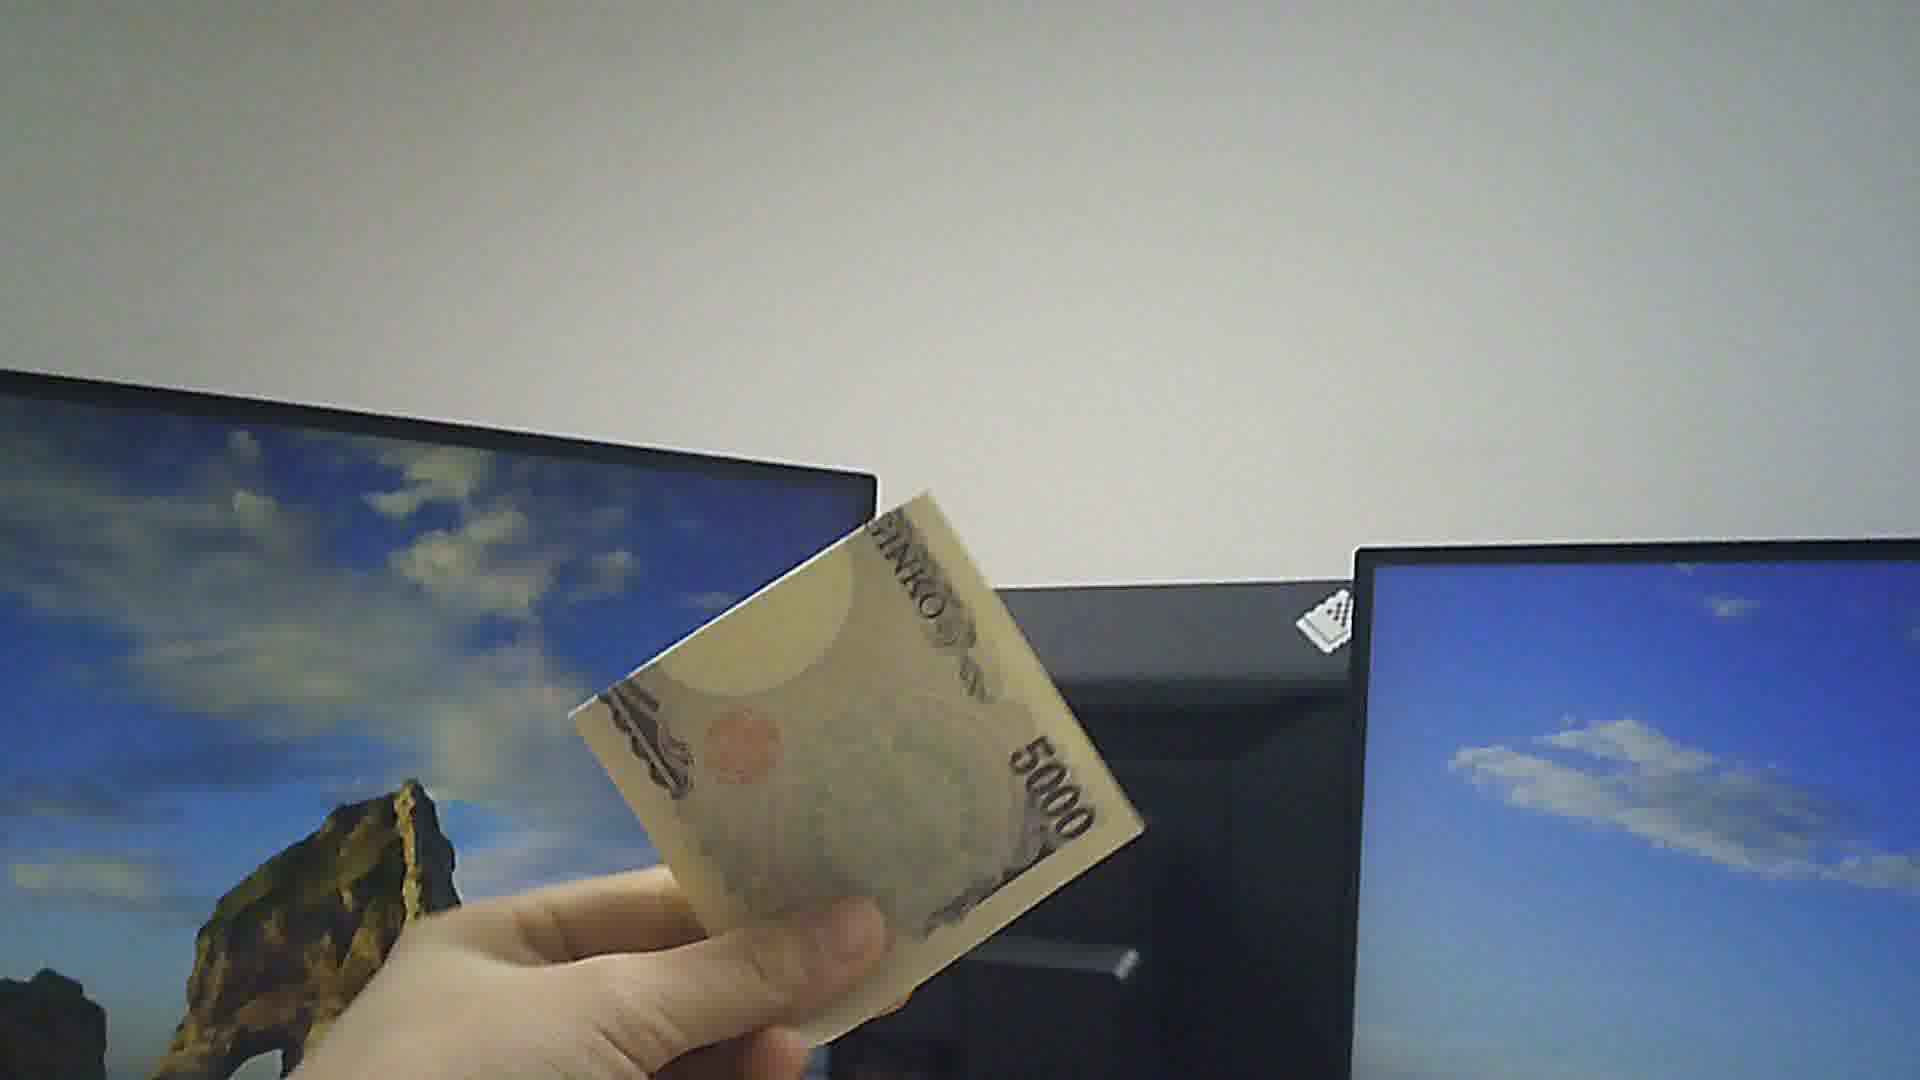5,000 Yen: (568, 465, 1149, 1033)
